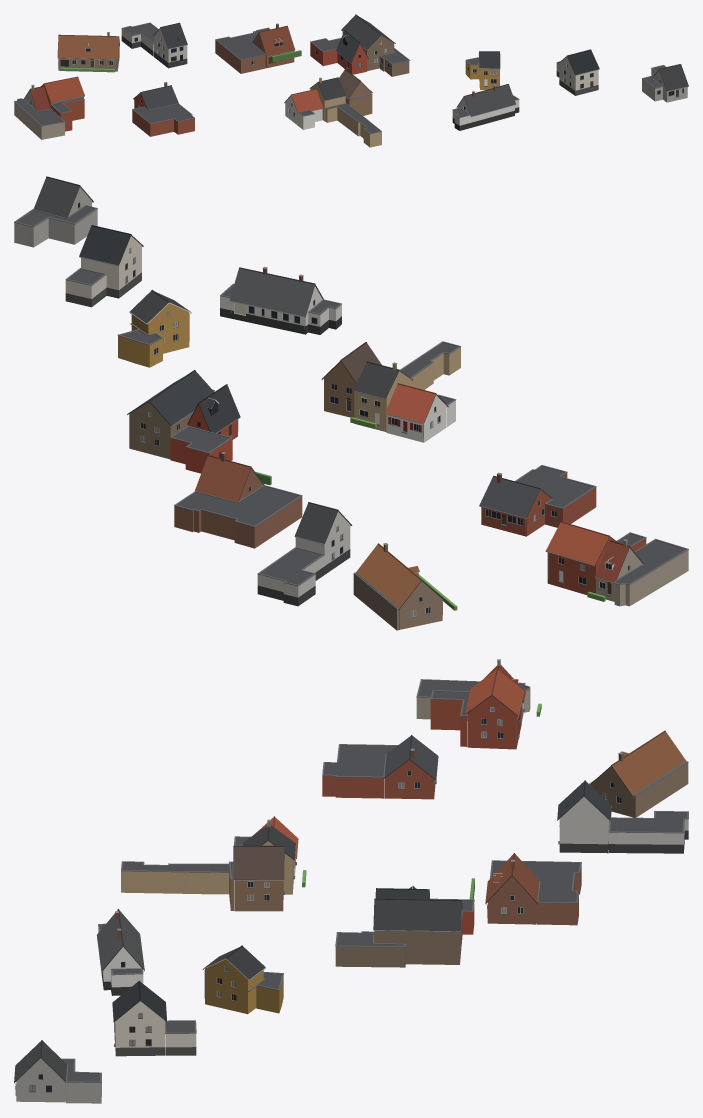
File: molenhoek_end1.glb
3 renders of one model, top to bottom at view 1: azimuth 30°, elevation 25°; view 2: azimuth 150°, elevation 25°; view 3: azimuth 270°, elevation 25°, orthographic. The views are drawn at different scales.
Visible parts, largest first — view 1: mh_roof, mh_brick, mh_stone, mh_render, mh_detail_w, mh_detail_e, mh_glass, mh_detail_m, mh_foliage; view 2: mh_brick, mh_roof, mh_stone, mh_render, mh_detail_w, mh_glass, mh_detail_m, mh_detail_e; view 3: mh_brick, mh_roof, mh_stone, mh_render, mh_detail_e, mh_glass, mh_detail_w, mh_detail_m.
Part boxes in pixels (x1,y1,x2,y2): mh_roof: (30,15,688,116); mh_brick: (14,24,687,147); mh_stone: (14,22,665,134); mh_render: (121,28,598,129); mh_detail_w: (23,22,323,116); mh_detail_e: (381,35,688,117); mh_glass: (30,37,683,115); mh_detail_m: (251,14,388,103); mh_foliage: (59,50,301,72); mh_brick: (14,187,688,630); mh_roof: (33,177,629,609); mh_stone: (14,205,688,617); mh_render: (65,236,614,597); mh_detail_w: (294,383,643,617); mh_glass: (78,202,629,616); mh_detail_m: (148,317,423,502); mh_detail_e: (46,176,323,443); mh_brick: (16,661,688,1103); mh_roof: (14,665,685,1081); mh_stone: (61,659,688,1082); mh_render: (98,797,688,1047); mh_detail_e: (14,909,461,1095); mh_glass: (30,707,621,1091); mh_detail_w: (273,666,665,844); mh_detail_m: (233,826,538,942).
Bounding box in the file's own units: 179 × 14.79 × 124.
